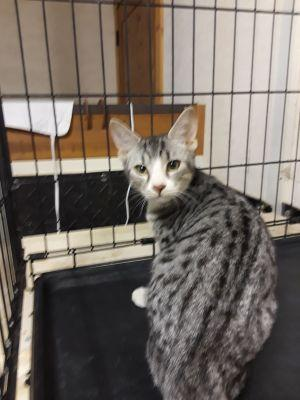bengal: (100, 104, 207, 213)
